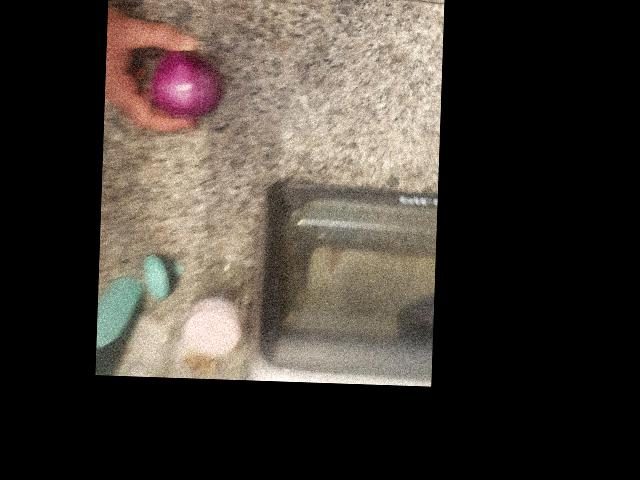onion: (355, 92, 440, 170)
